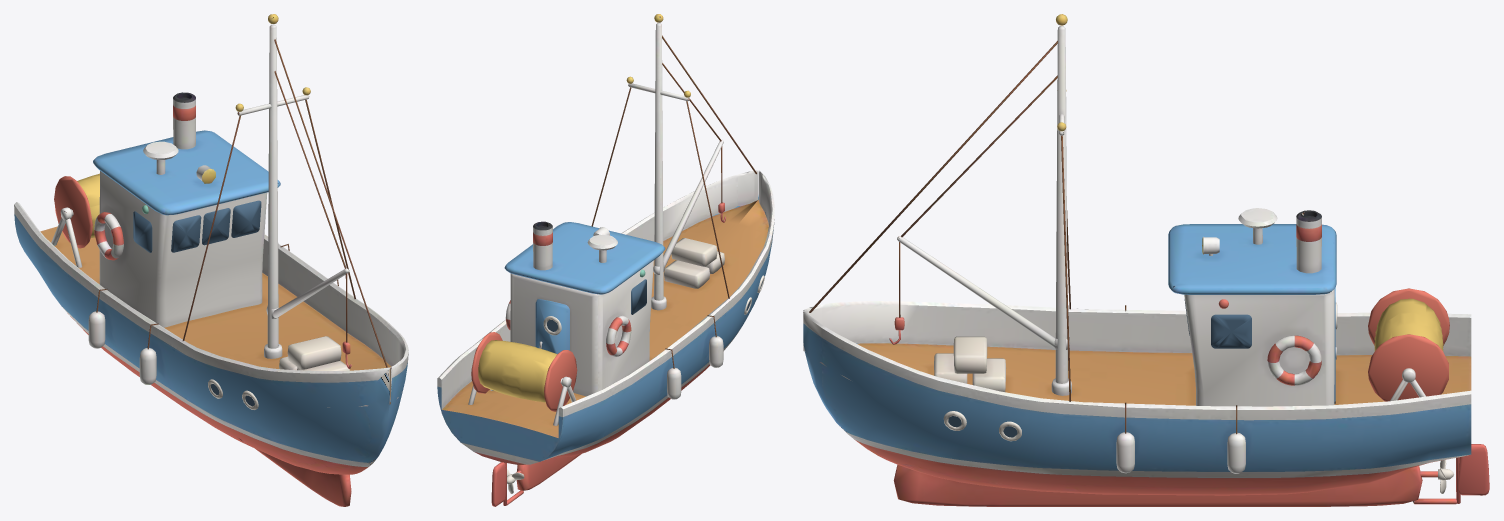
File: fishing-boat.glb
3 renders of one model, left to right at view 1: azimuth 30°, elevation 25°; view 2: azimuth 150°, elevation 25°; view 3: azimuth 270°, elevation 25°, orthographic. The views are drawn at different scales.
Parts seen in each view (by area): view 1: fishing-boat_body, fishing-boat_navlight_port; view 2: fishing-boat_body, fishing-boat_navlight_port; view 3: fishing-boat_body, fishing-boat_navlight_port.
Boxes of the visible parts, left/top/right/bottom form: fishing-boat_body: left=14, top=14, right=408, bottom=506; fishing-boat_navlight_port: left=54, top=173, right=261, bottom=409; fishing-boat_body: left=437, top=14, right=774, bottom=505; fishing-boat_navlight_port: left=471, top=269, right=764, bottom=506; fishing-boat_body: left=803, top=14, right=1471, bottom=506; fishing-boat_navlight_port: left=943, top=288, right=1489, bottom=503.
Bounding box in the file's own units: 3.12 × 6.35 × 8.05.
Materials: 2 (2 with a texture image).
